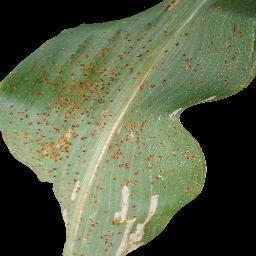Corn_Common_Rust: (1, 0, 184, 256), (183, 128, 208, 204), (246, 13, 256, 86), (223, 43, 238, 66), (183, 53, 199, 74), (231, 23, 245, 39), (210, 3, 225, 13), (222, 75, 232, 86), (183, 30, 192, 41), (189, 20, 200, 27), (211, 41, 214, 46)
